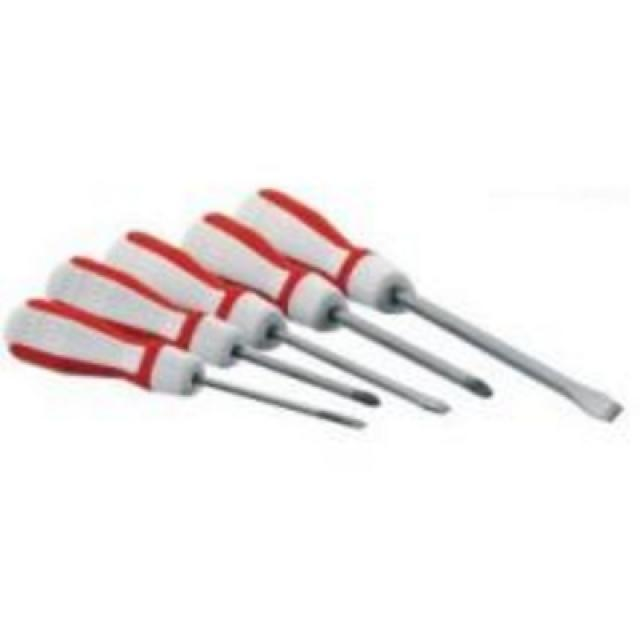screwdriver: (238, 174, 618, 427), (97, 230, 460, 418), (179, 211, 488, 397), (39, 251, 380, 408), (0, 291, 374, 432)
